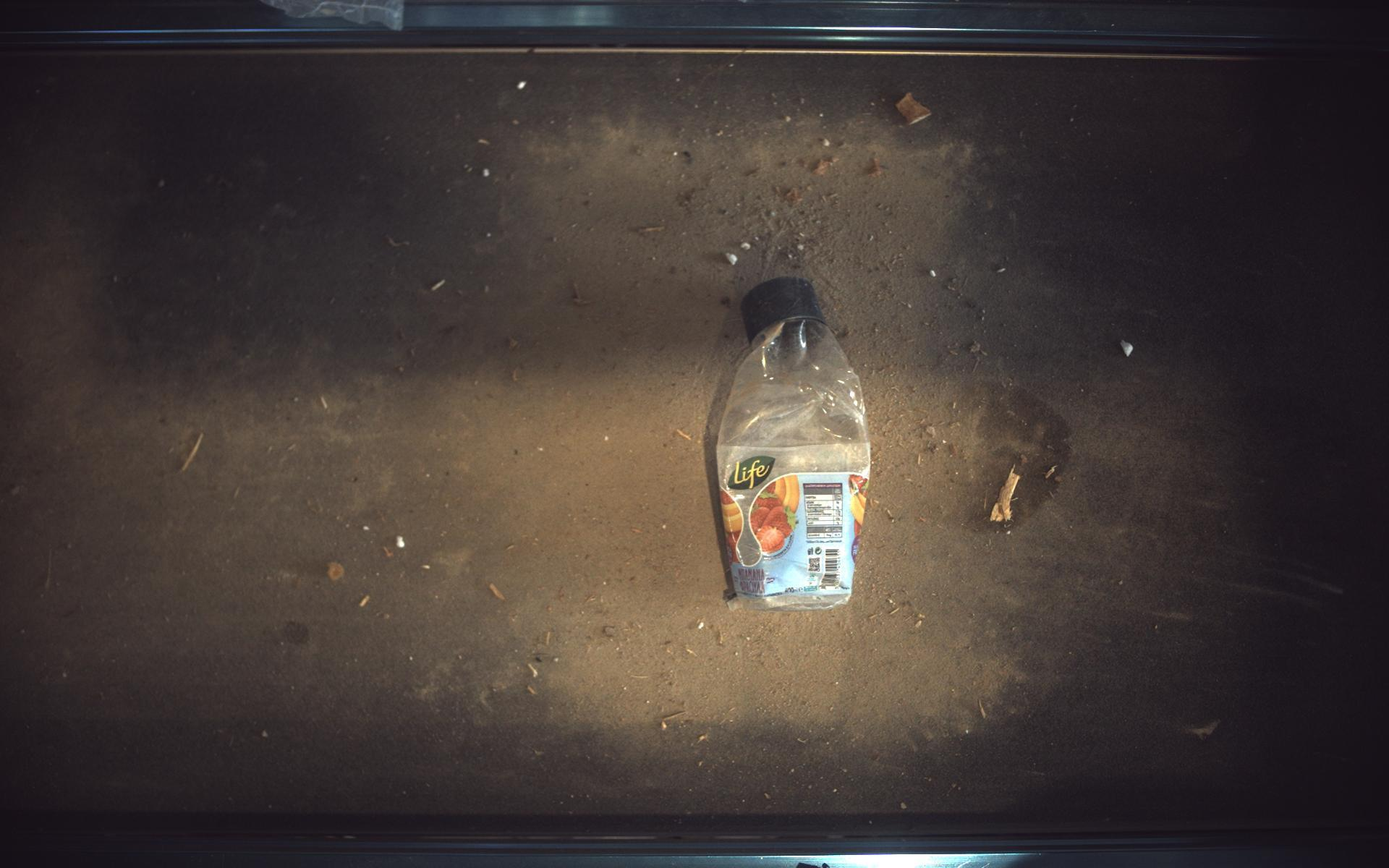general_w: (718, 277, 872, 610)
